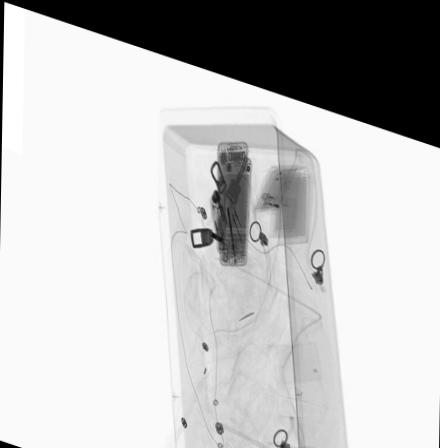Lighter: (259, 175, 296, 199)
